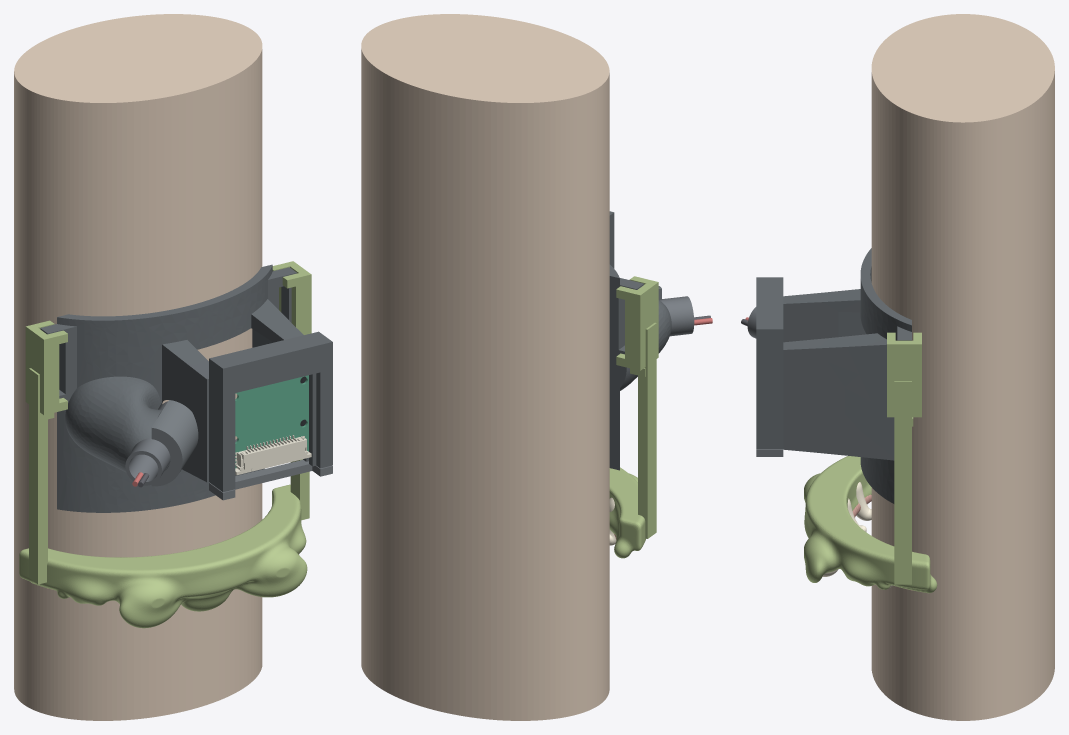
The model's file is monster-on-mount.glb.
The picture shows the model from 3 angles, left to right: view 1: azimuth 30°, elevation 25°; view 2: azimuth 150°, elevation 25°; view 3: azimuth 270°, elevation 25°; orthographic projection. The views are drawn at different scales.
Parts seen in each view (by area): view 1: ArmReference, WristSaddle, SkinAndMount, OfficialCM3_PCB, LaserCap, OfficialCM3_Connector, LaserHousing, CameraKeeper; view 2: ArmReference, SkinAndMount, WristSaddle, LaserHousing; view 3: ArmReference, WristSaddle, SkinAndMount, IvoryEyesAndFangs.
Boxes of the visible parts, x1,y1,x2,y2 form: ArmReference: (14,14,262,720); WristSaddle: (40,264,332,512); SkinAndMount: (19,261,311,628); OfficialCM3_PCB: (235,375,308,468); LaserCap: (151,400,198,486); OfficialCM3_Connector: (235,435,311,475); LaserHousing: (125,401,170,485); CameraKeeper: (209,459,332,500); ArmReference: (361,14,609,720); SkinAndMount: (609,276,658,558); WristSaddle: (609,211,671,470); LaserHousing: (660,296,694,336); ArmReference: (871,14,1054,720); WristSaddle: (756,248,911,503); SkinAndMount: (804,332,937,593); IvoryEyesAndFangs: (822,482,892,587).
Size of the model in its own units: 83.64 by 180 by 85.56.
